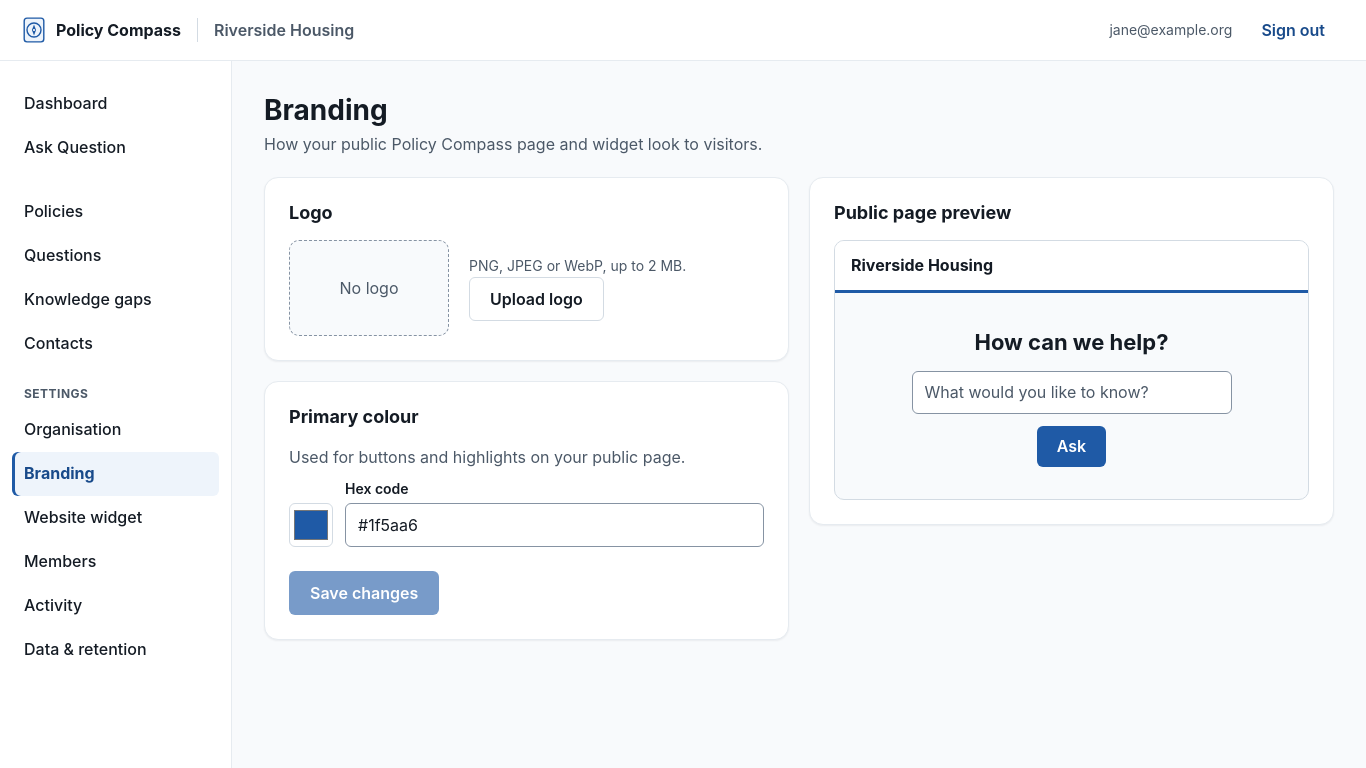
Test case: Branding › previews the public page live and saves the colour
Check: the text "Riverside Housing" below "Public page preview" is shown, box x1=851 y1=255 x2=993 y2=275
Check: the button "Save changes" is disabled, box x1=289 y1=571 x2=439 y2=615
Replace the text in the field labelled "Hex code" with "#0B6E4F" at (554, 525), box x1=345 y1=503 x2=764 y2=547
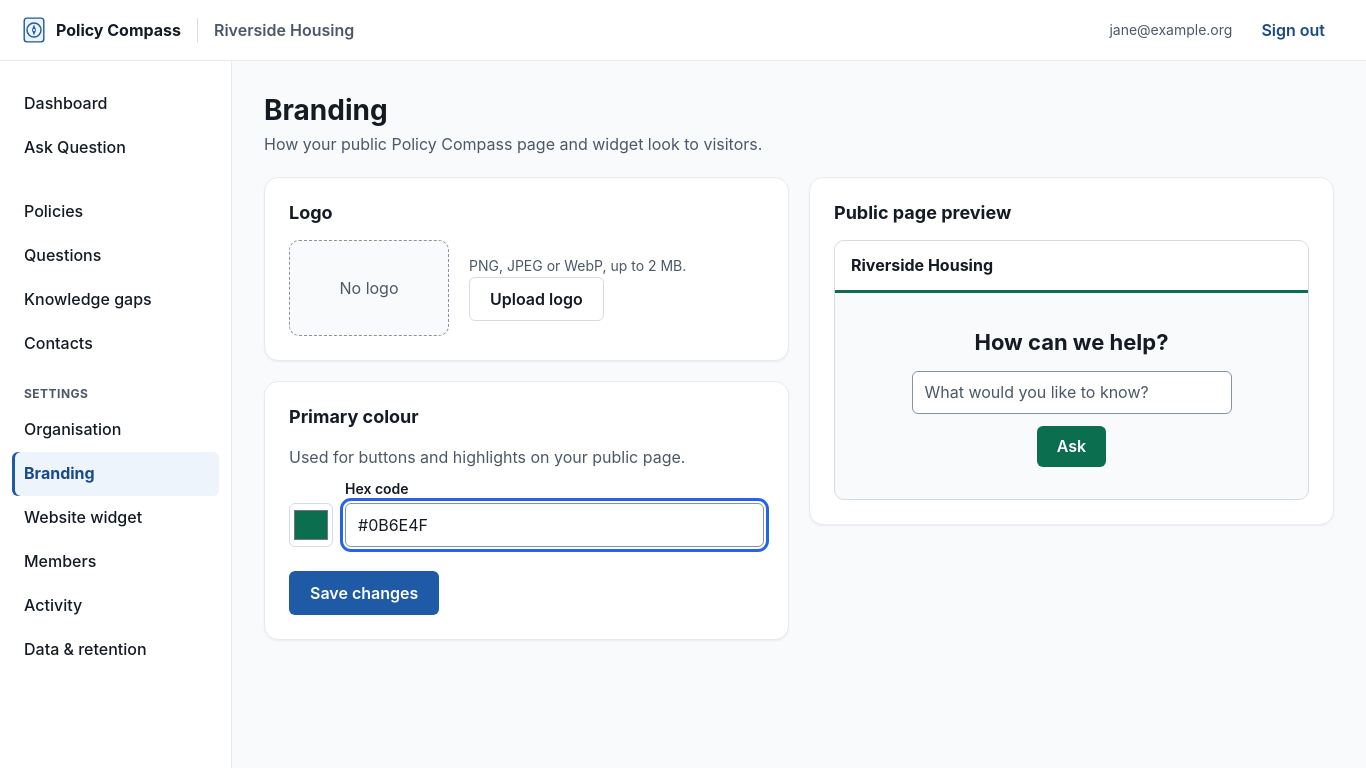
Click the button "Save changes" at (364, 593), box x1=289 y1=571 x2=439 y2=615
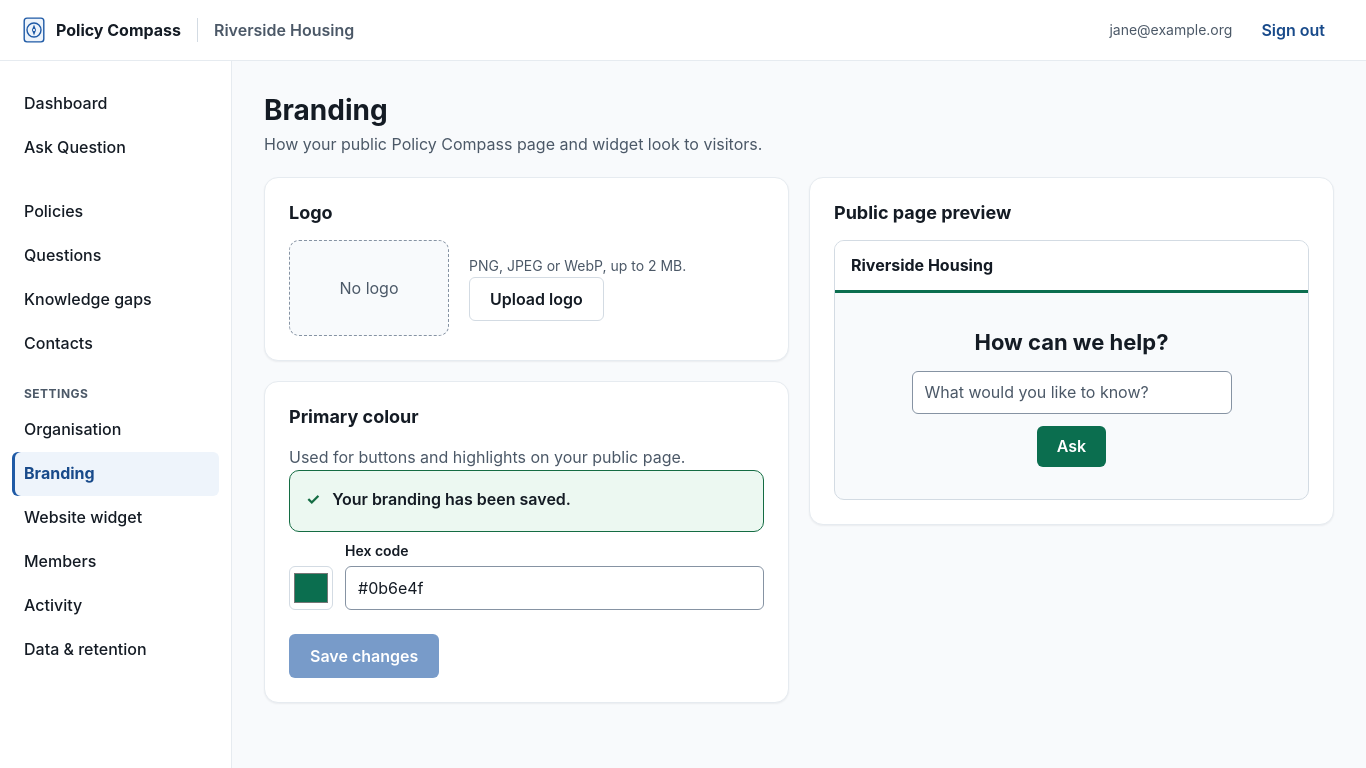
Check: the text "Your branding has been saved." is shown, box x1=332 y1=487 x2=571 y2=511
